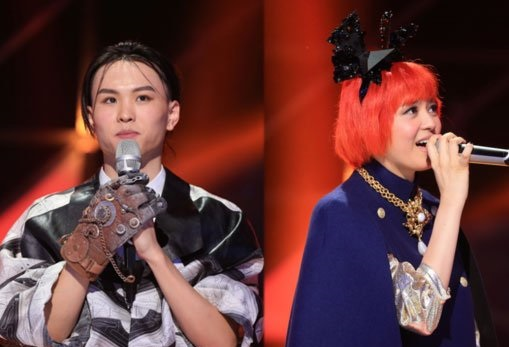face: (91, 62, 165, 156), (386, 82, 443, 170)
